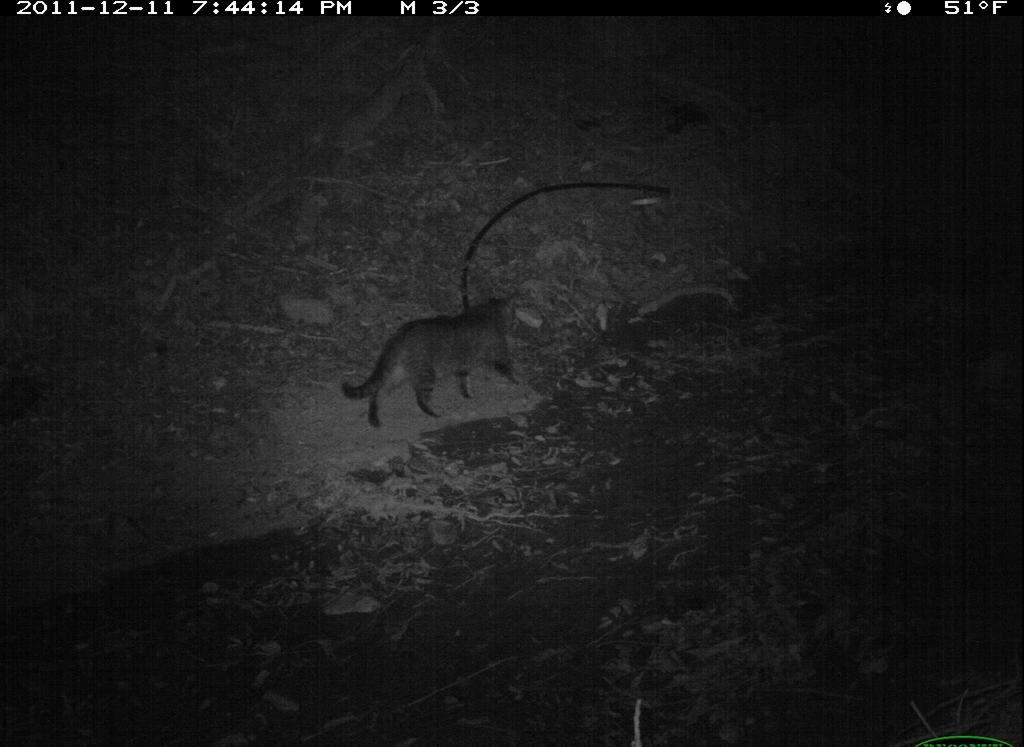cat: (332, 287, 523, 434)
